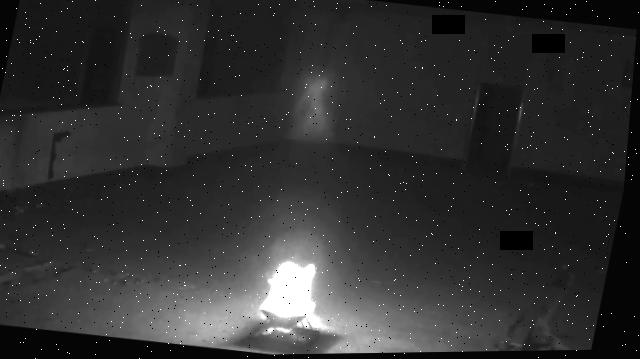fire: (262, 257, 328, 319)
smoke: (289, 65, 344, 142)
